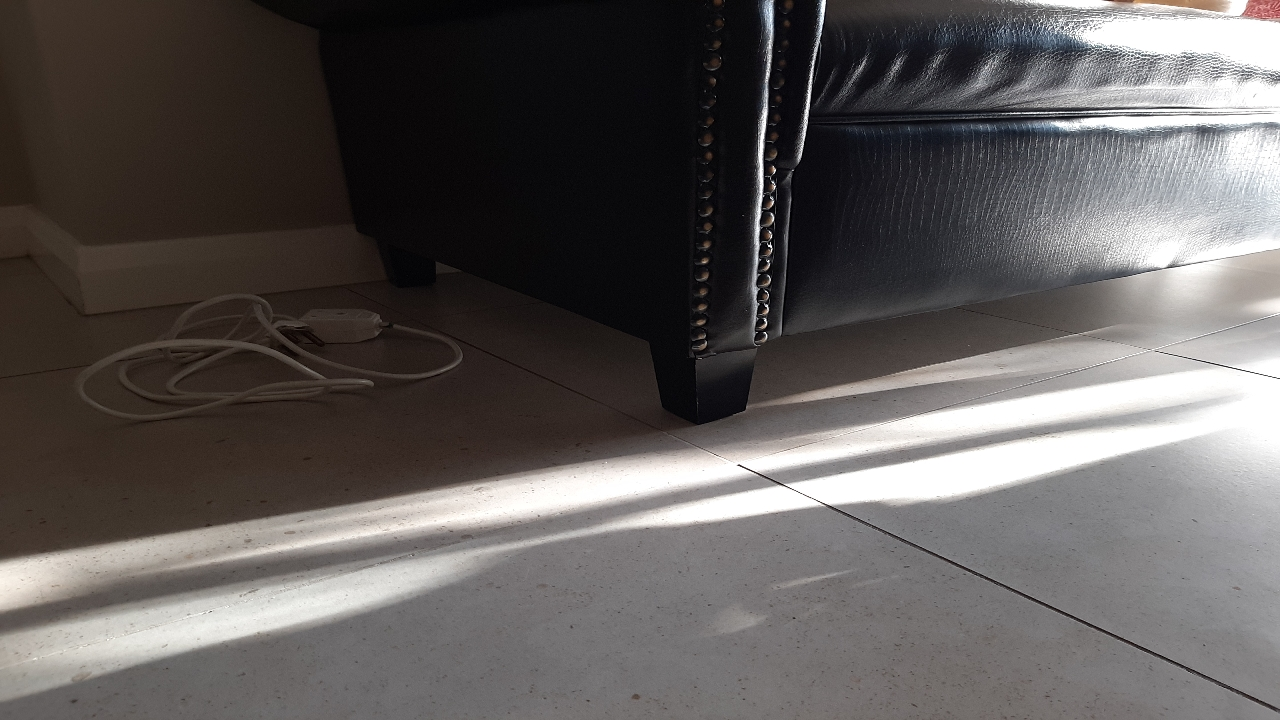cable: (63, 321, 467, 431)
chair: (627, 300, 803, 446)
